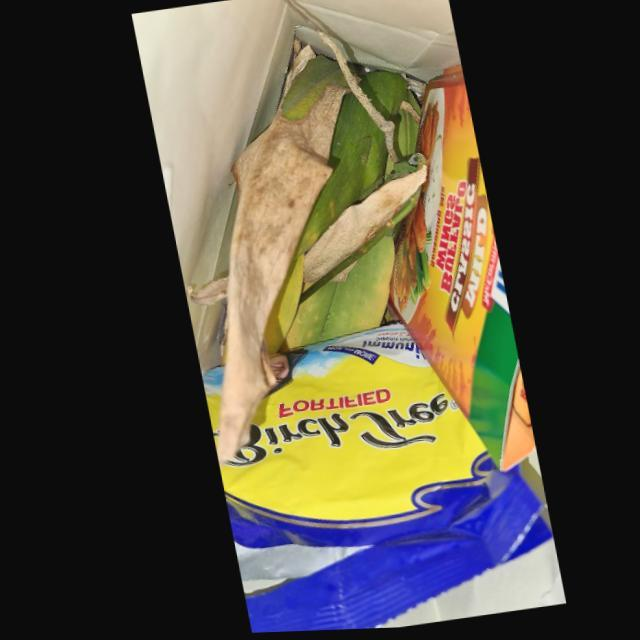biowaste: (209, 86, 343, 460), (296, 167, 424, 294)
wrapper: (193, 326, 541, 634), (383, 66, 527, 475)
